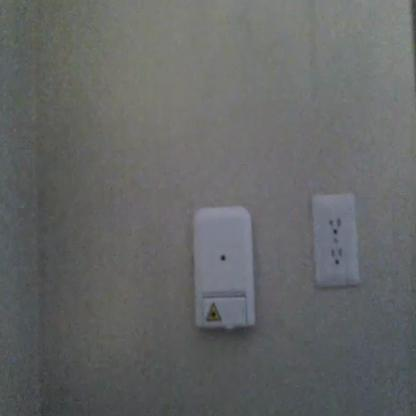OUTLET: (312, 193, 360, 284)
